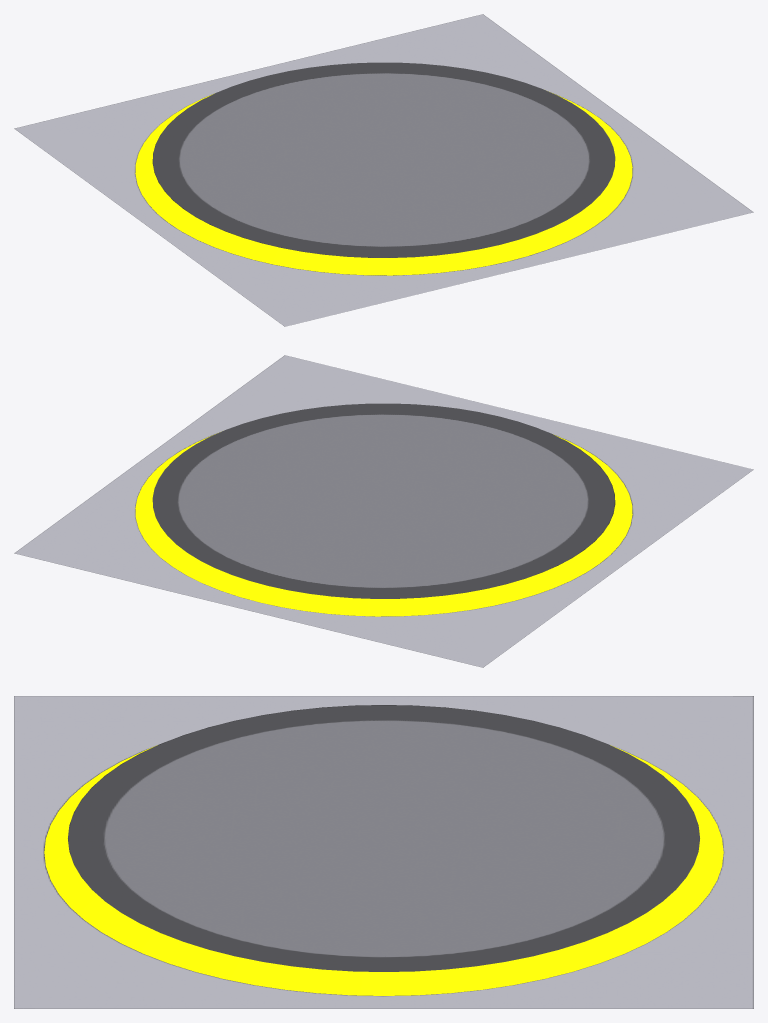
Rendered from Floor_Normal_04.FBX.
3 views of the same model, one above another, from view 1: azimuth 30°, elevation 25°; view 2: azimuth 150°, elevation 25°; view 3: azimuth 270°, elevation 25° (orthographic). The views are drawn at different scales.
Parts seen in each view (by area): view 1: Floor_Normal_04; view 2: Floor_Normal_04; view 3: Floor_Normal_04.
Boxes of the visible parts, box(x1,y1,x2,y2) form: Floor_Normal_04: box(14, 14, 753, 326); Floor_Normal_04: box(14, 355, 753, 667); Floor_Normal_04: box(14, 696, 753, 1008).
Bounding box in the file's own units: 12 × 0.25 × 12.
